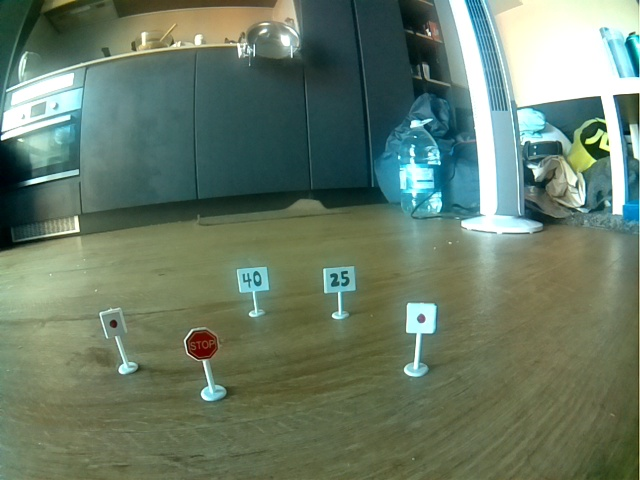red light: (408, 301, 436, 334), (103, 309, 128, 337)
speed 25: (324, 266, 356, 292)
speed 40: (237, 267, 270, 293)
stop: (183, 328, 219, 361)
